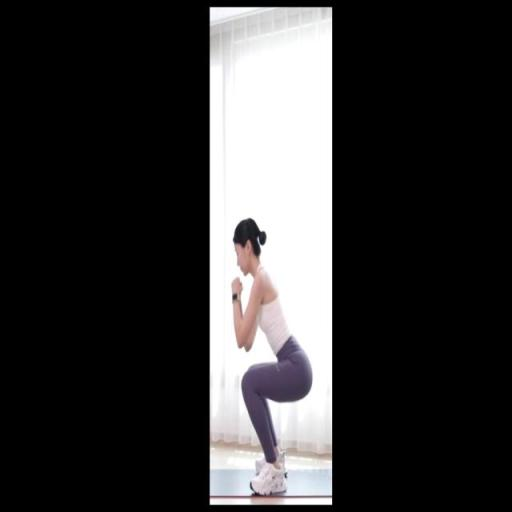Normal_BrenchPress: (230, 218, 313, 497)
